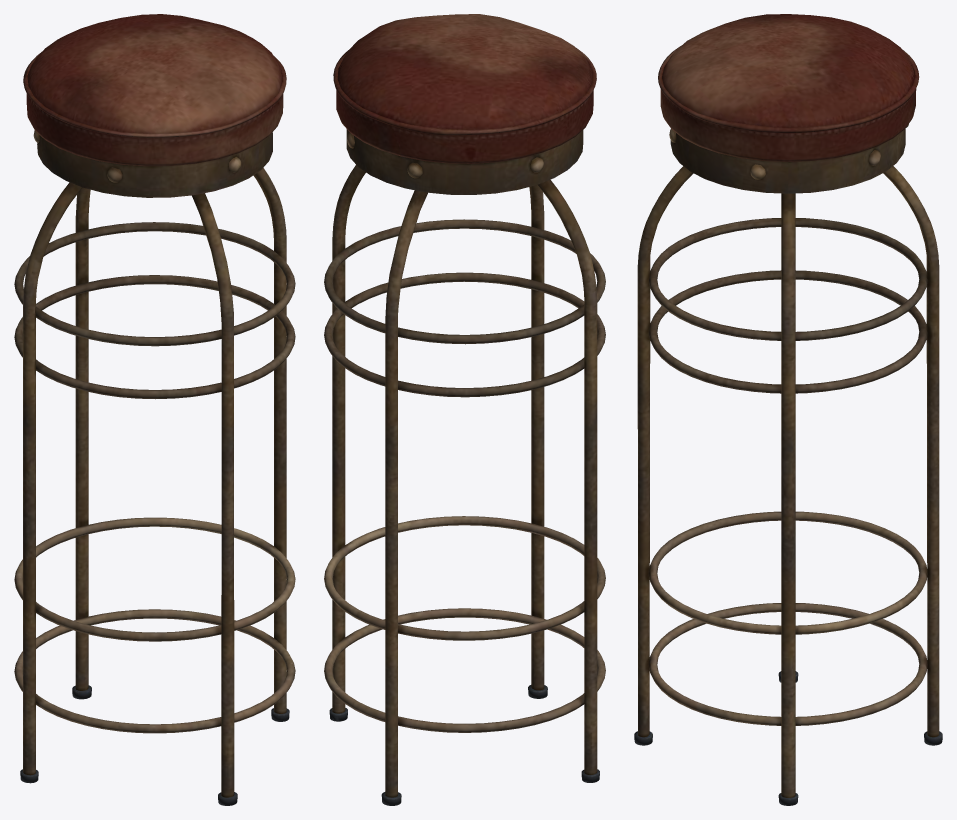
The model's file is metal_stool_01.glb.
3 renders of one model, left to right at view 1: azimuth 30°, elevation 25°; view 2: azimuth 150°, elevation 25°; view 3: azimuth 270°, elevation 25°, orthographic.
Visible parts, largest first — view 1: metal_stool_01; view 2: metal_stool_01; view 3: metal_stool_01.
Boxes of the visible parts, <box> form: metal_stool_01: <box>14,14,295,805</box>; metal_stool_01: <box>324,14,605,805</box>; metal_stool_01: <box>634,14,942,805</box>.
Bounding box in the file's own units: 0.352 × 0.8828 × 0.3546.
Materials: 1 (1 with a texture image).
